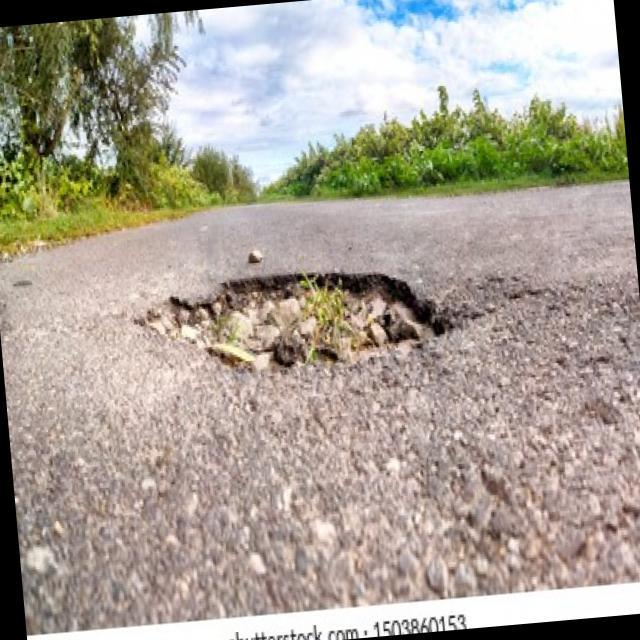Pothole: (122, 252, 458, 388)
